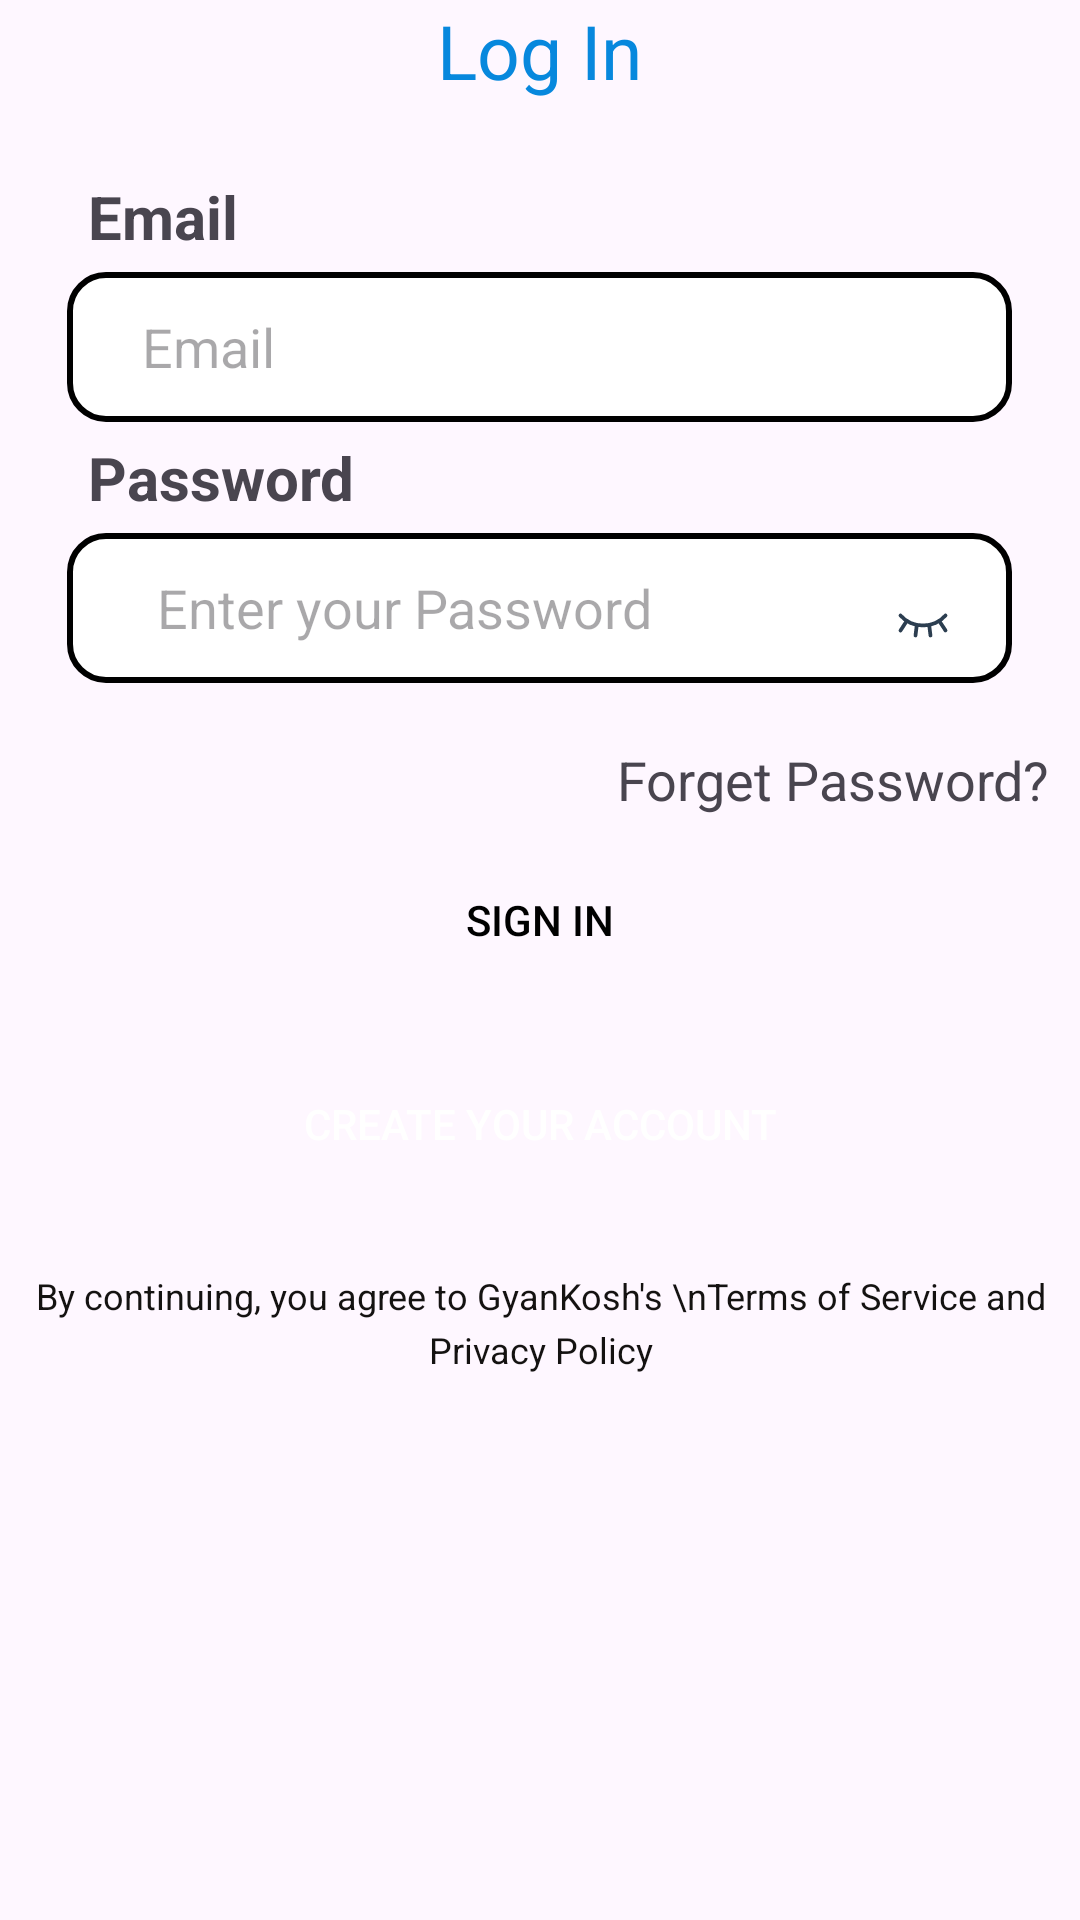

Icons on this 1080*1920 Android screen, each with its box as rect(x1, y1, x2, y2):
eye toggle: rect(898, 613, 948, 638)
